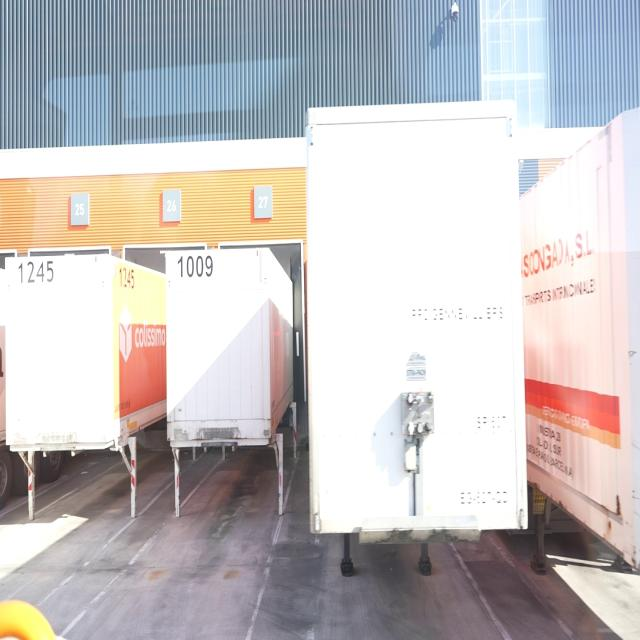Code: (170, 249, 217, 287), (16, 257, 56, 287)
